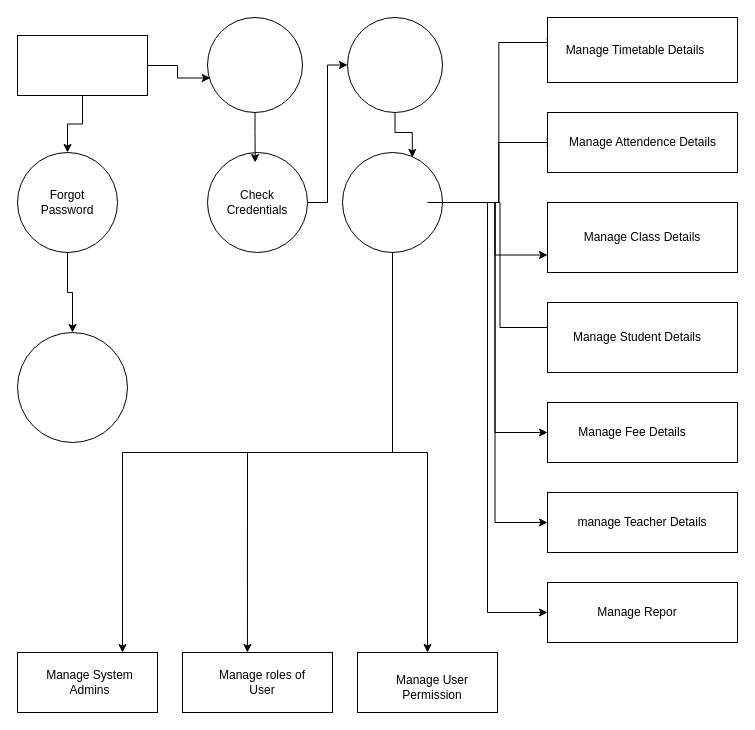
Image size: 755x730. Some labels were removed from this diagram. The centre of each missing label's shape, as x and y in pixels:
"Admin" belongs at point 82,65.
"check Roles of Access" belongs at point 394,64.
"Login to System" belongs at point 254,64.
"Manager Modules" belongs at point 392,202.
"Send Email to User" belongs at point 72,387.
